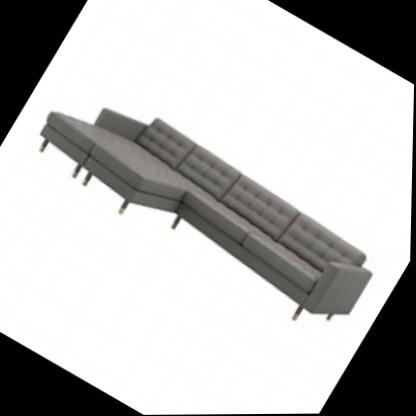Sofa: (3, 65, 393, 359)
